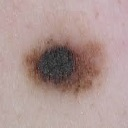Melanoma: (27, 42, 98, 93)
